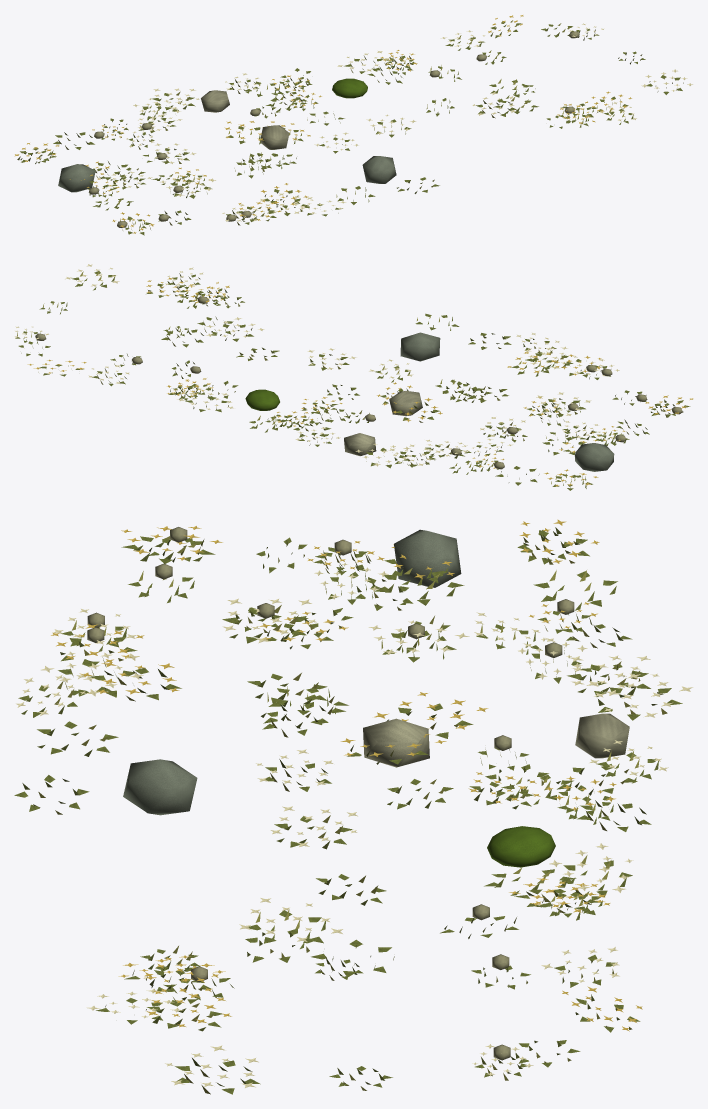
File: detail-patch-05-00.fbx
3 views of the same model, one above another, from view 1: azimuth 30°, elevation 25°; view 2: azimuth 150°, elevation 25°; view 3: azimuth 270°, elevation 25° (orthographic). The views are drawn at different scales.
Parts seen in each view (by area): view 1: detail-patch-05-00__Geometry; view 2: detail-patch-05-00__Geometry; view 3: detail-patch-05-00__Geometry.
Part boxes in pixels (x1,y1,x2,y2): detail-patch-05-00__Geometry: [14, 15, 692, 235]; detail-patch-05-00__Geometry: [15, 264, 693, 490]; detail-patch-05-00__Geometry: [14, 519, 693, 1094].
Size of the model in its own units: 9.98 by 0.4579 by 5.04.
1 material, 1 textured.
